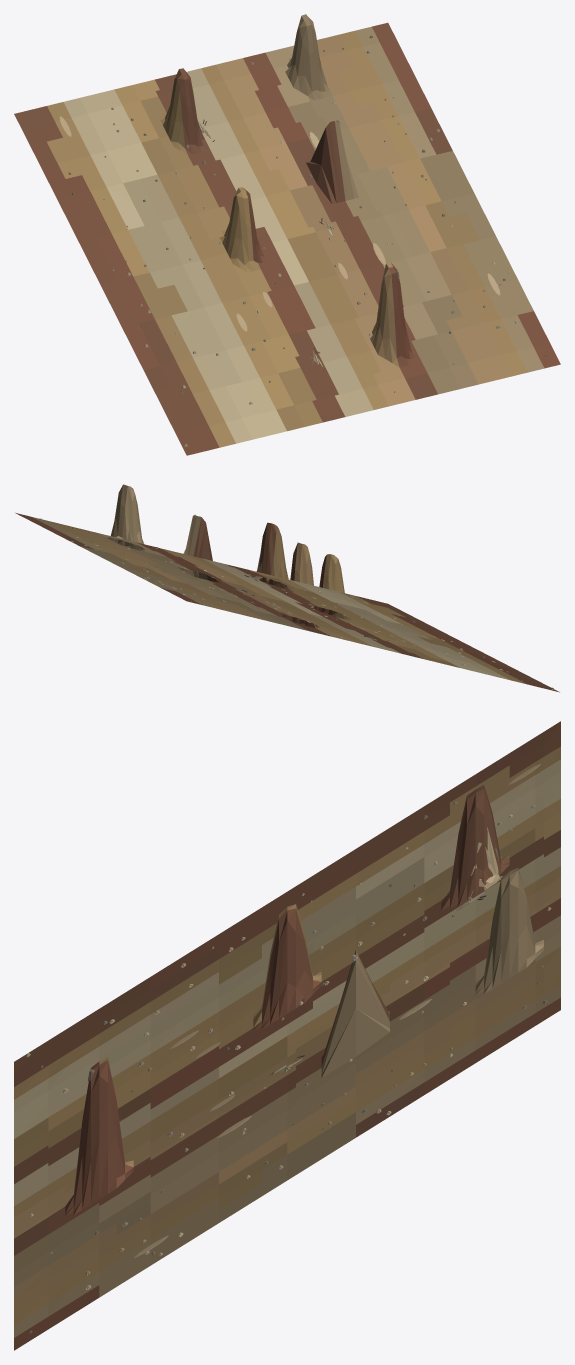
File: liner_drop_ramp.glb
The picture shows the model from 3 angles, top to bottom: view 1: azimuth 30°, elevation 25°; view 2: azimuth 150°, elevation 25°; view 3: azimuth 270°, elevation 25°; orthographic projection. The views are drawn at different scales.
Visible parts, largest first — view 1: liner_drop_ramp_body; view 2: liner_drop_ramp_body; view 3: liner_drop_ramp_body.
Part boxes in pixels (bbox=[...]): liner_drop_ramp_body: bbox=[14, 14, 560, 455]; liner_drop_ramp_body: bbox=[15, 484, 559, 692]; liner_drop_ramp_body: bbox=[14, 721, 560, 1350].
Bounding box in the file's own units: 200 × 131 × 160.
